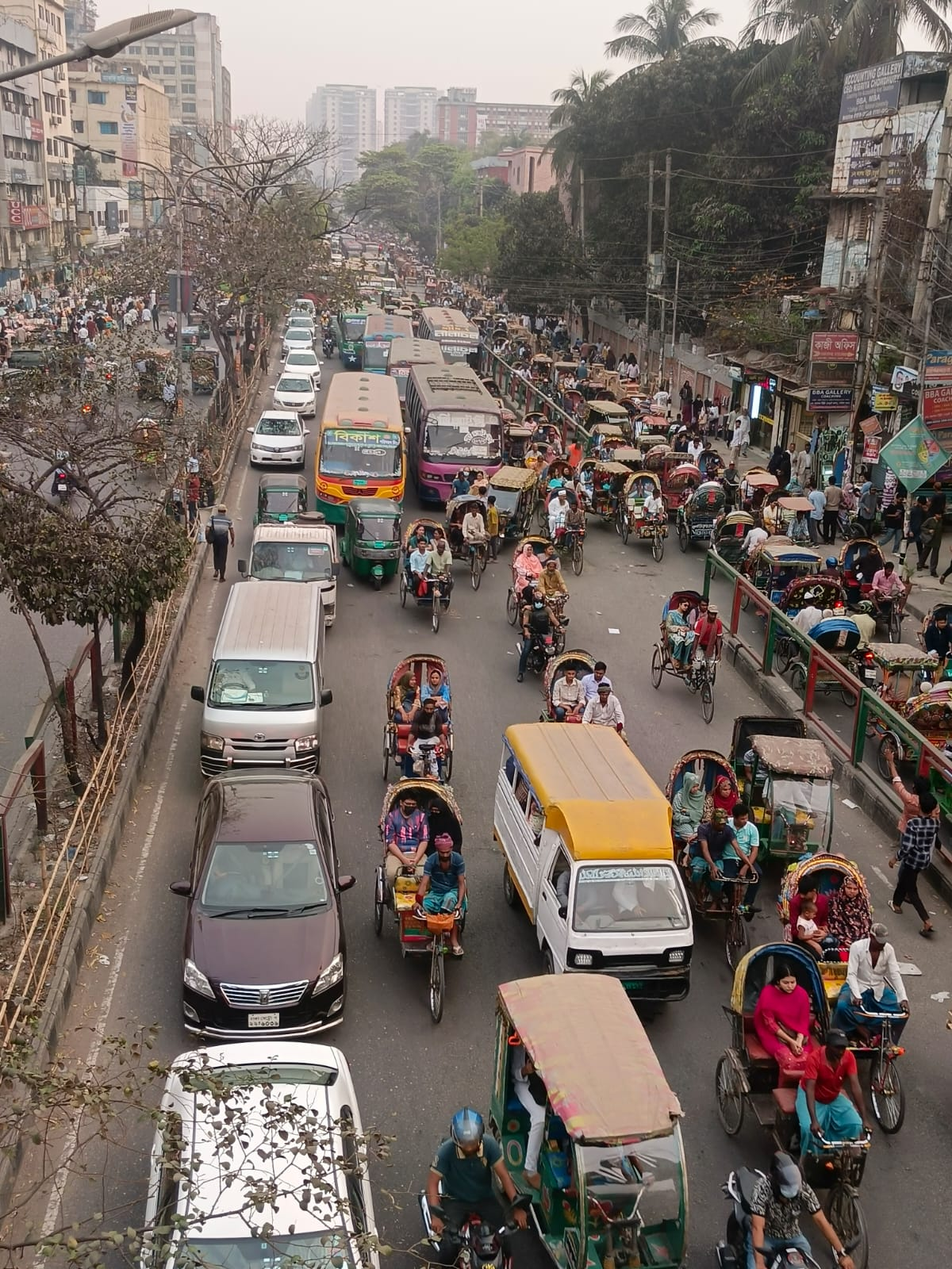Bus: (317, 372, 411, 516), (408, 361, 503, 481)
Leguna: (496, 719, 698, 1002)
auto-ricksaw: (472, 953, 702, 1269), (726, 853, 914, 1171), (373, 767, 481, 1023), (648, 588, 729, 732), (375, 649, 465, 776), (618, 471, 672, 565), (510, 531, 565, 609)
cng: (343, 495, 406, 588), (253, 470, 312, 527)
private car: (135, 1017, 394, 1269), (175, 755, 354, 1044), (186, 557, 341, 779), (245, 409, 311, 470), (270, 367, 321, 416)
